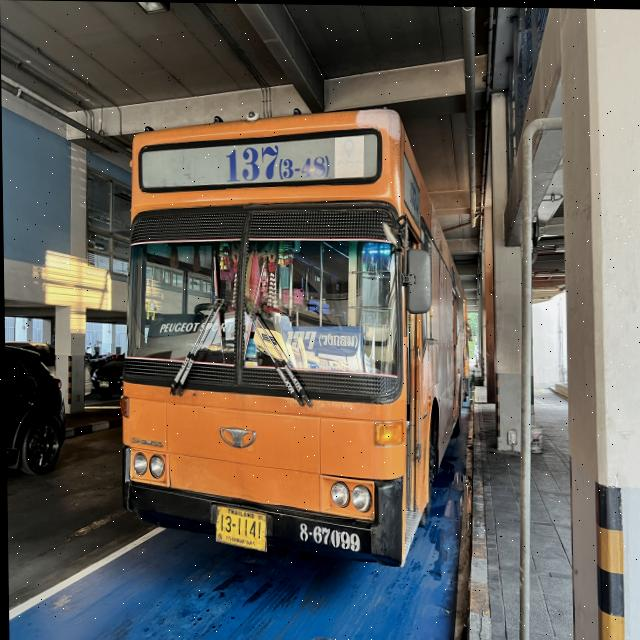BMTA-bus: (112, 105, 470, 568)
Bus-Line-Number: (221, 142, 330, 182)
Destination-Sign-Normal: (283, 324, 363, 374)
